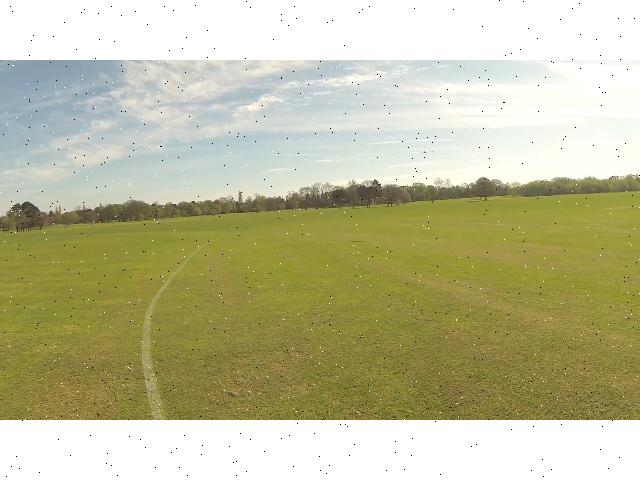Anti-Drone: (408, 148, 440, 160)
